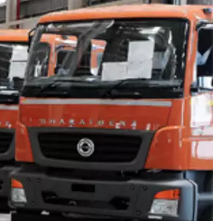truck: (9, 2, 213, 219)
